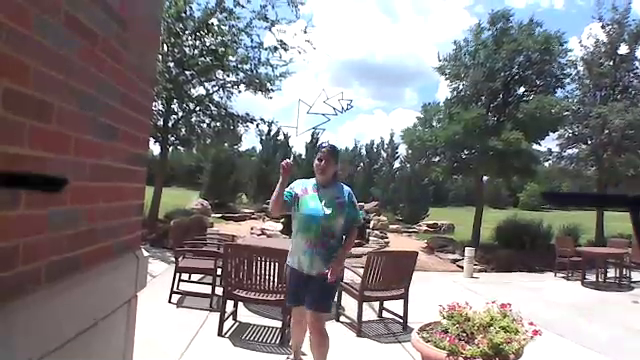up: (275, 146, 297, 178)
